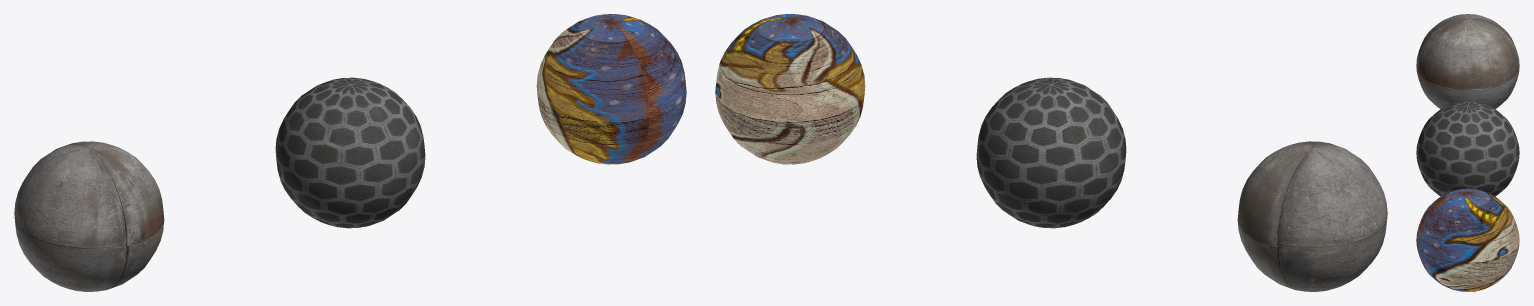
The model's file is materials.glb.
The picture shows the model from 3 angles, left to right: view 1: azimuth 30°, elevation 25°; view 2: azimuth 150°, elevation 25°; view 3: azimuth 270°, elevation 25°; orthographic projection. The views are drawn at different scales.
Parts seen in each view (by area): view 1: obj1; view 2: obj1; view 3: obj1.
Part boxes in pixels (x1,y1,x2,y2): obj1: [14, 14, 686, 291]; obj1: [715, 14, 1387, 291]; obj1: [1416, 14, 1519, 291].
Bounding box in the file's own units: 5 × 1 × 1.
Materials: 3 (3 with a texture image).
